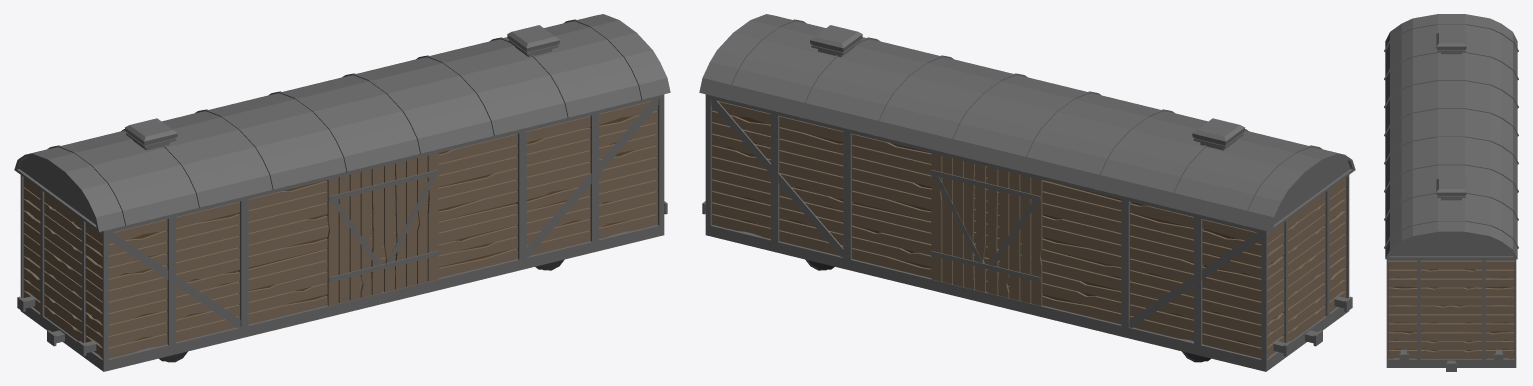
File: Locomotive Wagon.glb
3 views of the same model, side by side, from view 1: azimuth 30°, elevation 25°; view 2: azimuth 150°, elevation 25°; view 3: azimuth 270°, elevation 25° (orthographic). The views are drawn at different scales.
Parts seen in each view (by area): view 1: Locomotive_Wagon; view 2: Locomotive_Wagon; view 3: Locomotive_Wagon.
Boxes of the visible parts, x1=… form: Locomotive_Wagon: x1=14, y1=14, x2=670, y2=371; Locomotive_Wagon: x1=699, y1=14, x2=1355, y2=371; Locomotive_Wagon: x1=1384, y1=14, x2=1518, y2=371.
Size of the model in its own units: 8.06 by 2.95 by 2.07.
